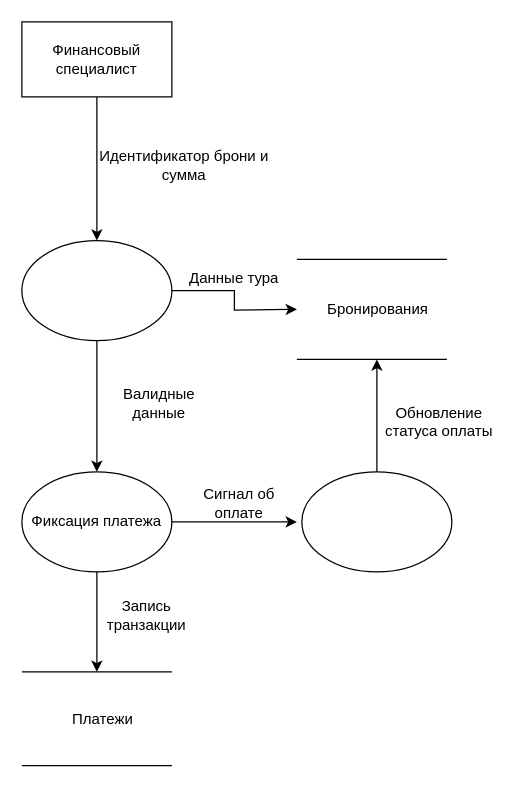
Image size: 524x789. Some labels were removed from this diagram. The centre of each missing label's shape, as x and y in pixels:
Пересчёт статуса: point (376, 521)
Поиск бронирований: point (96, 290)
